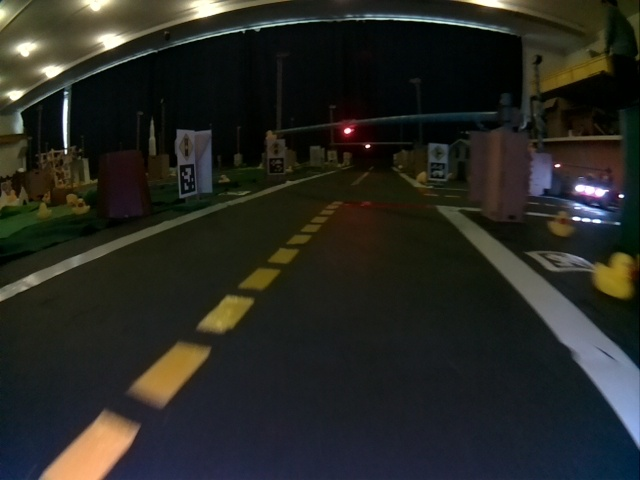Duckie: (594, 253, 635, 298), (549, 211, 576, 237), (72, 199, 89, 214), (37, 204, 49, 217)
Duckiebot: (574, 175, 622, 209)
Intersection sign: (430, 145, 448, 160)
QR code: (530, 252, 594, 273), (179, 163, 197, 194), (430, 164, 446, 178), (270, 158, 284, 172)
Signal sign: (178, 131, 194, 161), (267, 141, 285, 156)
Traffic light: (343, 118, 355, 138), (365, 142, 373, 150)
